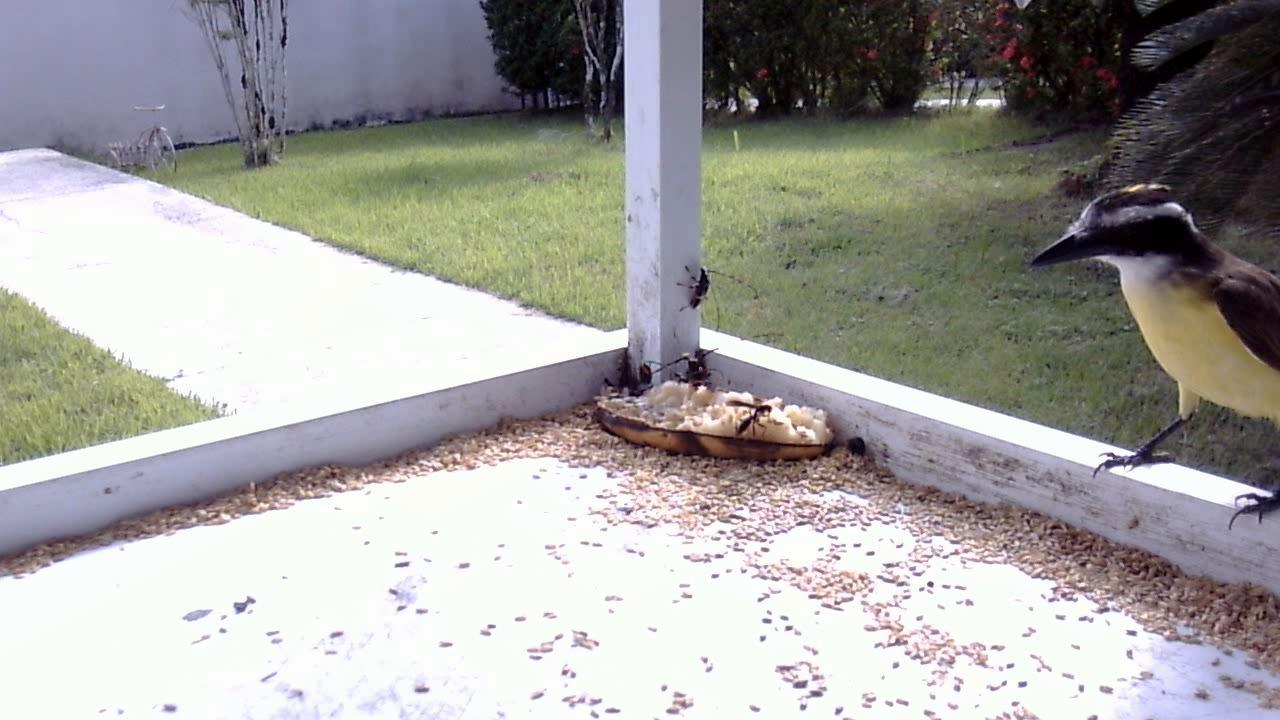bem_te_vi: (1023, 167, 1276, 538)
